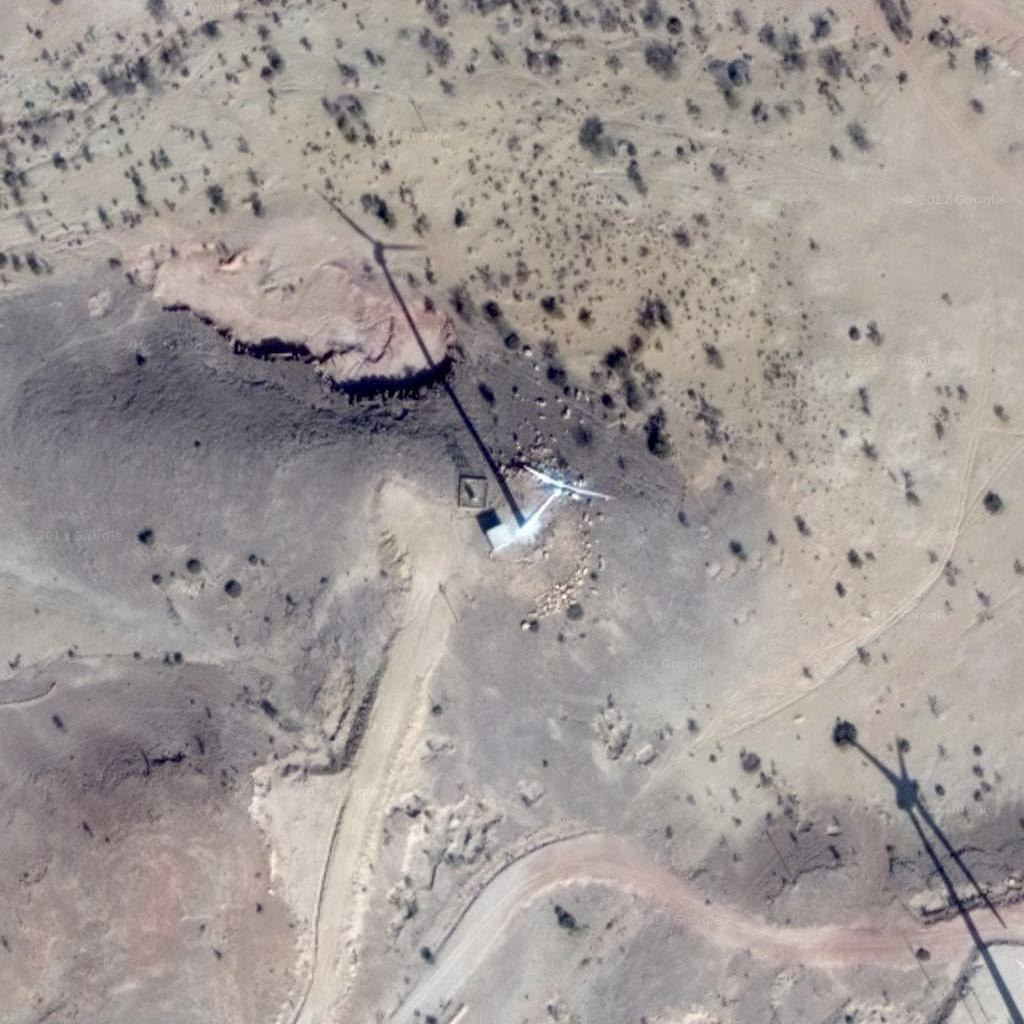Windmill: (303, 184, 539, 521)
